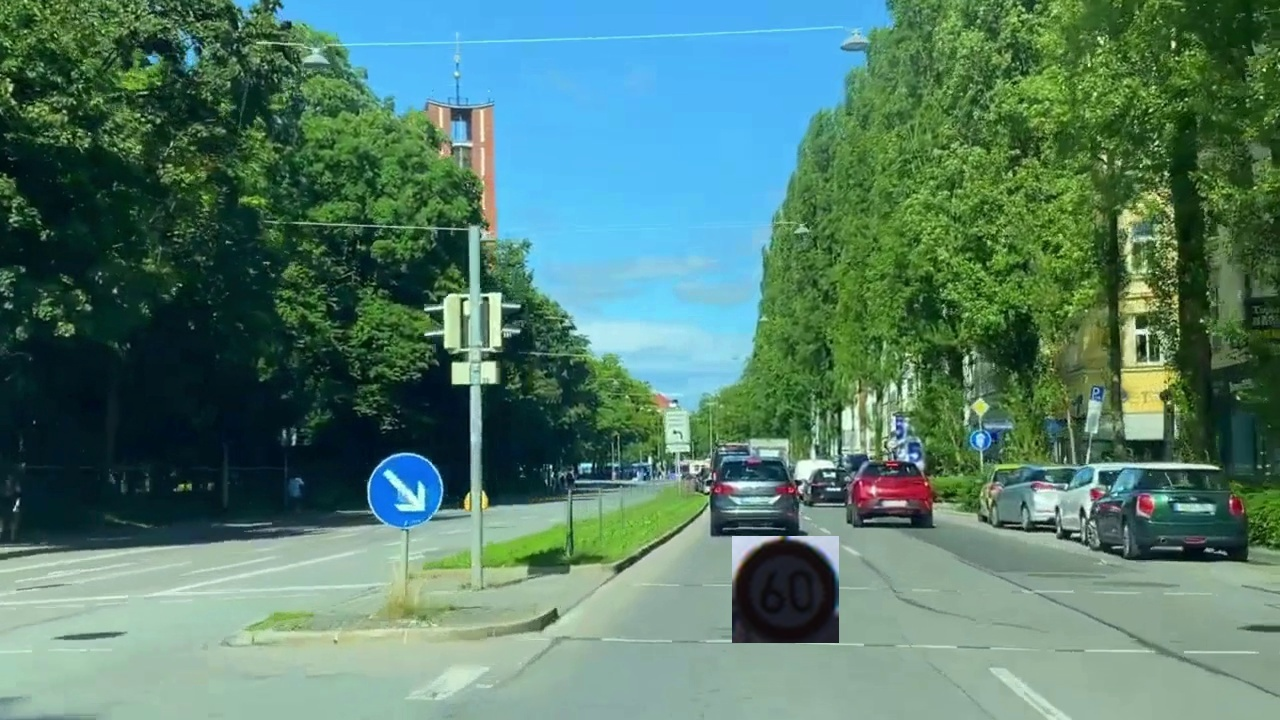Speed 60: (732, 536, 839, 643)
